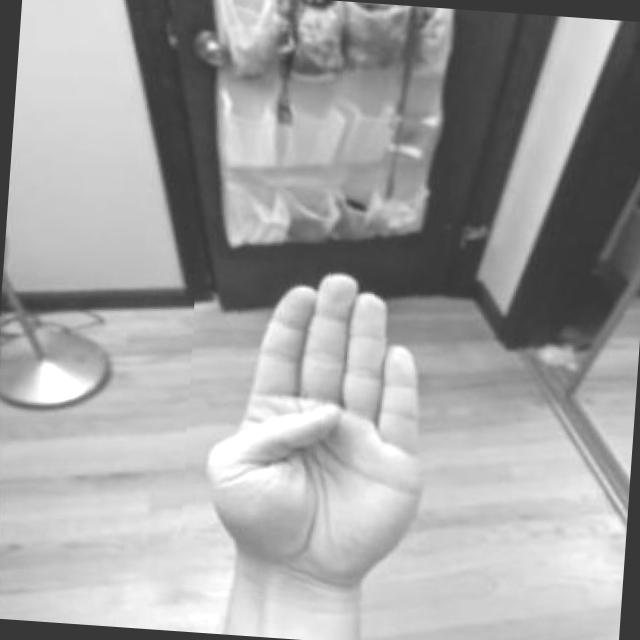B: (174, 257, 444, 606)
